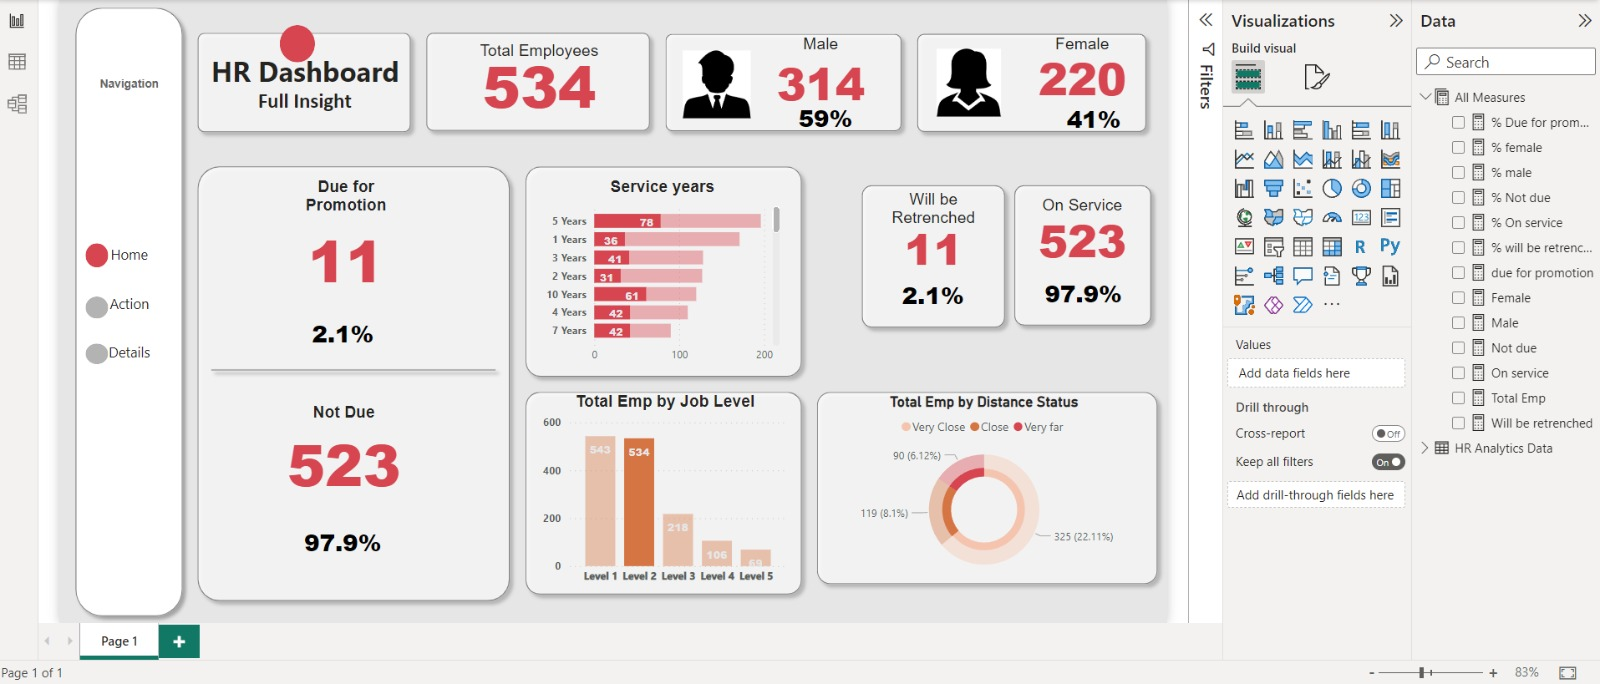

The page's visual inventory and layout, read from the dashboard file:
{"tool":"powerbi","page":{"name":"Page 1","canvas":[1280,720],"ordinal":0},"visuals":[{"type":"shape","box":[9.6,0,141.3,720.4],"z":0},{"type":"shape","box":[150.8,28.9,264.1,132.7],"z":1000},{"type":"shape","box":[414.9,28.9,276.2,131.5],"z":2000},{"type":"shape","box":[691.1,30.2,290.7,130.3],"z":3000},{"type":"shape","box":[981.7,30.2,282.2,131.5],"z":4000},{"type":"shape","box":[150.8,183.3,378.7,519.8],"z":5000},{"type":"shape","box":[529.4,183.3,336.5,260.5],"z":6000},{"type":"shape","box":[529.4,443.8,336.5,252.1],"z":7000},{"type":"shape","box":[917.8,205,183.3,182.1],"z":8000},{"type":"shape","box":[1093.9,205,176.1,179.7],"z":9000},{"type":"shape","box":[865.9,443.8,411.3,240],"z":10000},{"type":"textbox","box":[166.4,55.5,235.2,53.1],"z":11000},{"type":"textbox","box":[166.4,96.5,234,39.8],"z":12000},{"type":"shape","box":[254.5,28.9,41,43.4],"z":13000},{"type":"card","title":"Total Employees","fields":{"Values":["All Measures.Total Emp"]},"box":[446.2,48.2,215.9,96.5],"z":14000},{"type":"card","title":"Male","fields":{"Values":["All Measures.Male"]},"box":[776.7,39.8,205,88],"z":15000},{"type":"card","title":"Male","fields":{"Values":["All Measures.% male"]},"box":[803.2,108.5,162.8,56.7],"z":16000},{"type":"card","title":"Male","fields":{"Values":["All Measures.% female"]},"box":[1113.2,109.7,162.8,56.7],"z":17000},{"type":"image","box":[715.2,51.9,88,90.5],"z":18000},{"type":"image","box":[1008.2,50.7,84.4,89.2],"z":19000},{"type":"card","title":"Due for Promotion","fields":{"Values":["All Measures.due for promotion"]},"box":[260.5,205,141.1,143.5],"z":20000},{"type":"card","fields":{"Values":["All Measures.% Due for promotion"]},"box":[237.6,338.9,179.7,95.3],"z":21000},{"type":"card","title":"Not Due","fields":{"Values":["All Measures.Not due"]},"box":[220.7,465.5,215.9,114.6],"z":22000},{"type":"card","fields":{"Values":["All Measures.% Not due"]},"box":[237.6,580.1,179.7,95.3],"z":23000},{"type":"shape","box":[166.4,360.6,346.1,133.9],"z":24000},{"type":"barChart","title":"Service years","fields":{"Category":["HR Analytics Data.Service years"],"Y":["All Measures.Total Emp"]},"box":[556,205,281,223.1],"z":25000},{"type":"columnChart","fields":{"Category":["HR Analytics Data.Job Level"],"Y":["All Measures.Total Emp"]},"box":[553.6,453.5,291.9,230.4],"z":26000},{"type":"card","title":"Female","fields":{"Values":["All Measures.Female"]},"box":[1113.2,39.8,136.3,77.2],"z":27000},{"type":"card","title":"On Service","fields":{"Values":["All Measures.On service"]},"box":[1099.9,226.7,162.8,77.2],"z":28000},{"type":"card","title":"Male","fields":{"Values":["All Measures.% On service"]},"box":[1101.1,311.2,162.8,56.7],"z":29000},{"type":"card","title":"Will be Retrenched","fields":{"Values":["All Measures.Will be retrenched"]},"box":[938.3,219.5,142.3,91.7],"z":30000},{"type":"card","title":"Male","fields":{"Values":["All Measures.% will be retrenched"]},"box":[927.4,313.6,162.8,56.7],"z":31000},{"type":"donutChart","fields":{"Category":["HR Analytics Data.Distance Status"],"Y":["All Measures.Total Emp"]},"box":[865.9,453.5,404,221.9],"z":32000},{"type":"shape","box":[21.7,31.4,118.2,131.5],"z":33000},{"type":"textbox","box":[21.7,277.4,118.2,287],"z":34000},{"type":"shape","box":[30.2,281,26.5,27.7],"z":34001},{"type":"shape","box":[30.2,342.5,26.5,25.3],"z":34002},{"type":"shape","box":[30.2,396.8,26.5,24.1],"z":34003}]}

Visuals, with their boxes on the page's 1280x720 design canvas (x1, y1, x2, y2). These are canvas units, not pixel positions in the 1600x684 screenshot, which may show the page scaled, cropped or inside an application window:
shape: bbox(10, 0, 151, 720)
shape: bbox(151, 29, 415, 162)
shape: bbox(415, 29, 691, 160)
shape: bbox(691, 30, 982, 160)
shape: bbox(982, 30, 1264, 162)
shape: bbox(151, 183, 530, 703)
shape: bbox(529, 183, 866, 444)
shape: bbox(529, 444, 866, 696)
shape: bbox(918, 205, 1101, 387)
shape: bbox(1094, 205, 1270, 385)
shape: bbox(866, 444, 1277, 684)
textbox: bbox(166, 56, 402, 109)
textbox: bbox(166, 96, 400, 136)
shape: bbox(254, 29, 296, 72)
"Total Employees" card: bbox(446, 48, 662, 145)
"Male" card: bbox(777, 40, 982, 128)
"Male" card: bbox(803, 108, 966, 165)
"Male" card: bbox(1113, 110, 1276, 166)
image: bbox(715, 52, 803, 142)
image: bbox(1008, 51, 1093, 140)
"Due for Promotion" card: bbox(260, 205, 402, 348)
card - All Measures.% Due for promotion: bbox(238, 339, 417, 434)
"Not Due" card: bbox(221, 466, 437, 580)
card - All Measures.% Not due: bbox(238, 580, 417, 675)
shape: bbox(166, 361, 512, 494)
"Service years" barChart: bbox(556, 205, 837, 428)
columnChart - HR Analytics Data.Job Level x All Measures.Total Emp: bbox(554, 454, 846, 684)
"Female" card: bbox(1113, 40, 1250, 117)
"On Service" card: bbox(1100, 227, 1263, 304)
"Male" card: bbox(1101, 311, 1264, 368)
"Will be Retrenched" card: bbox(938, 220, 1081, 311)
"Male" card: bbox(927, 314, 1090, 370)
donutChart - HR Analytics Data.Distance Status x All Measures.Total Emp: bbox(866, 454, 1270, 675)
shape: bbox(22, 31, 140, 163)
textbox: bbox(22, 277, 140, 564)
shape: bbox(30, 281, 57, 309)
shape: bbox(30, 342, 57, 368)
shape: bbox(30, 397, 57, 421)
